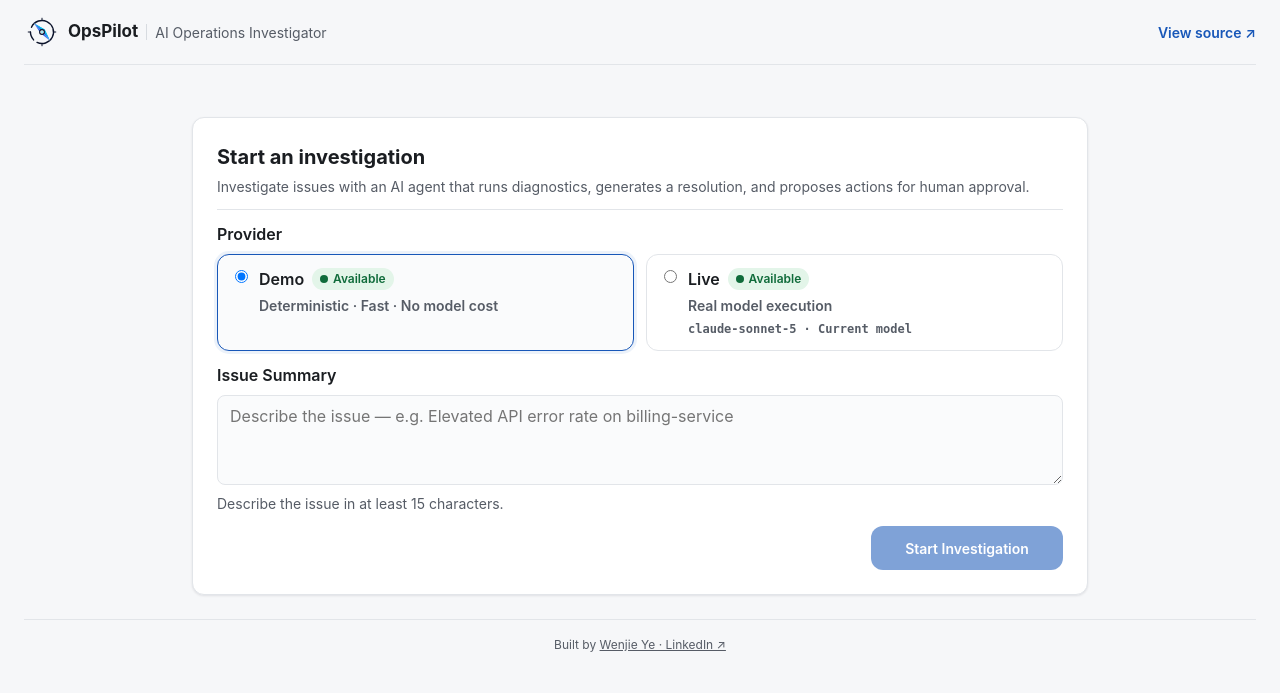
Test: live access token lifetime › clears the token field after a terminal failure too
Step 1. Type "Elevated error rate on billing" into the text box labelled "Issue Summary" → (640, 440), box 217,395 -> 1063,485
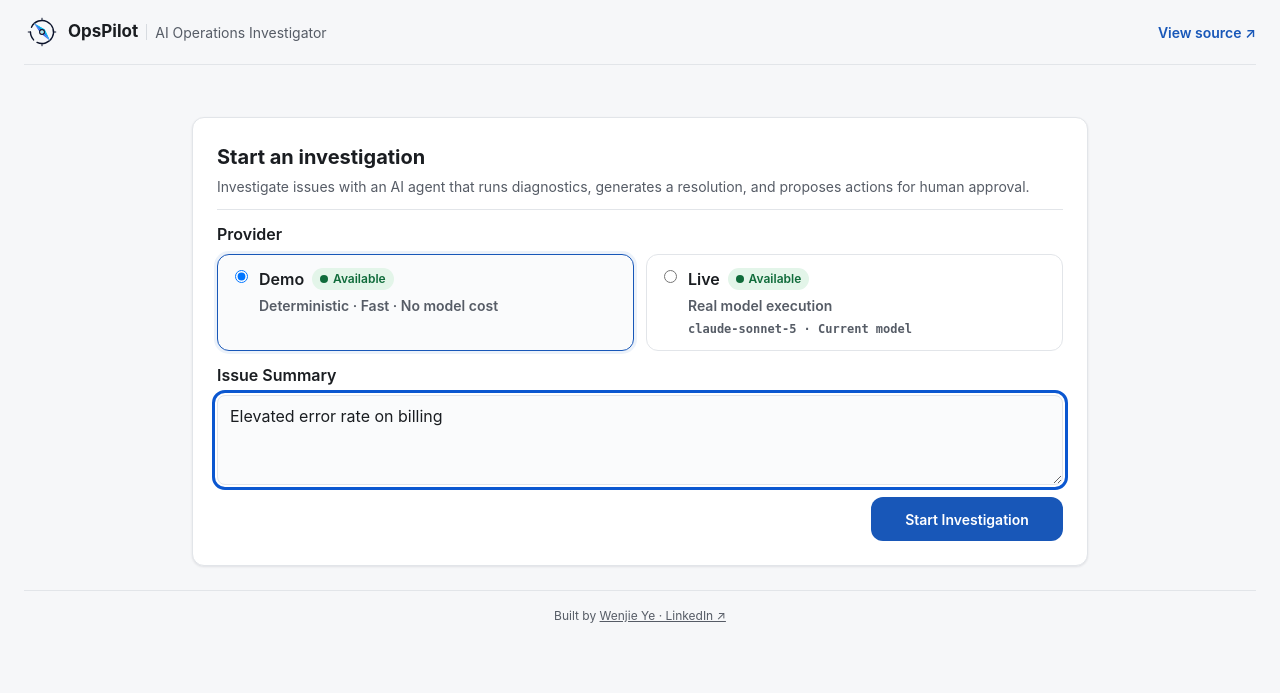
Step 2. Click the radio button labelled "Live" → (670, 277), box 664,270 -> 677,283
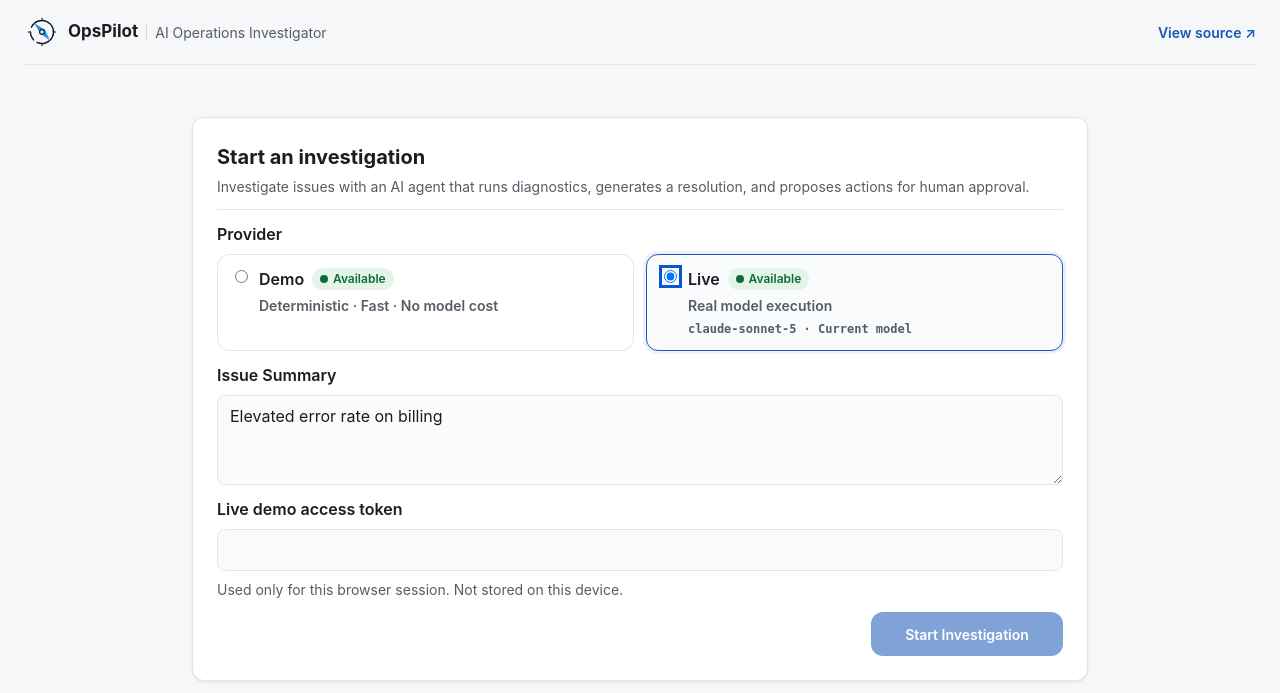
Step 3. Type "demo-token-do-not-use-8f14e45fceea" into the password field labelled "Live demo access token" → (640, 550), box 217,529 -> 1063,571
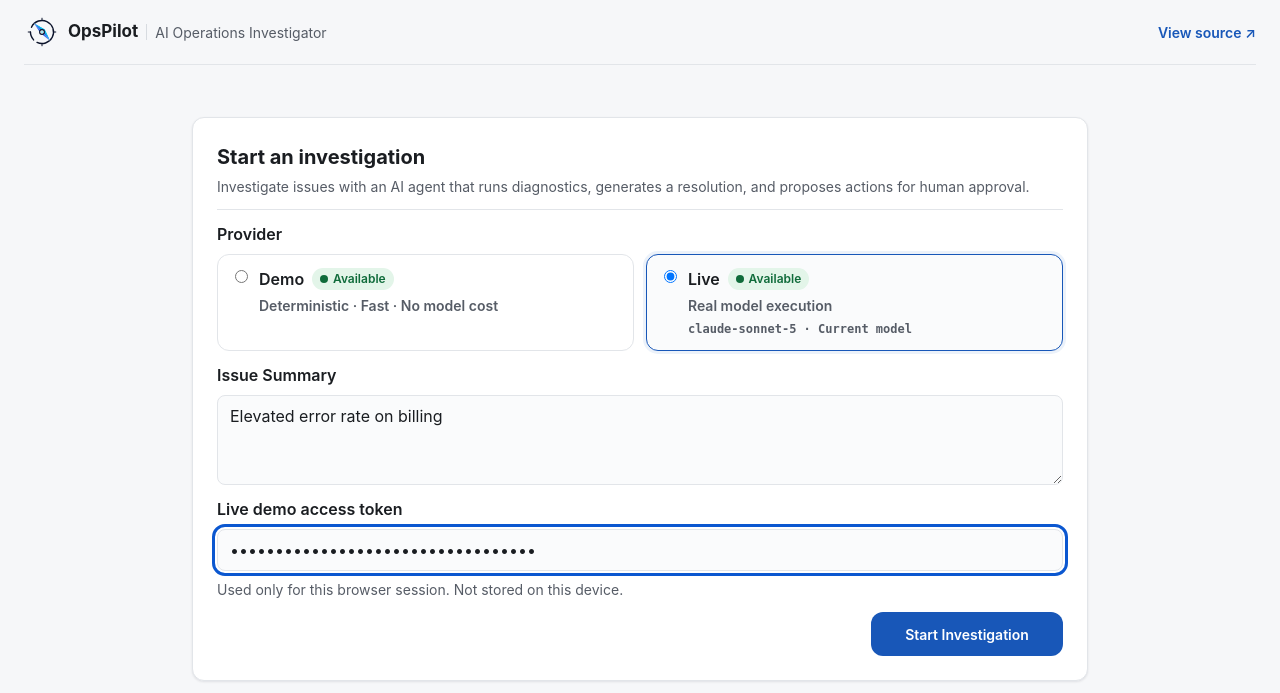
Step 4. Click the button "Start Investigation" → (967, 634), box 871,612 -> 1063,656
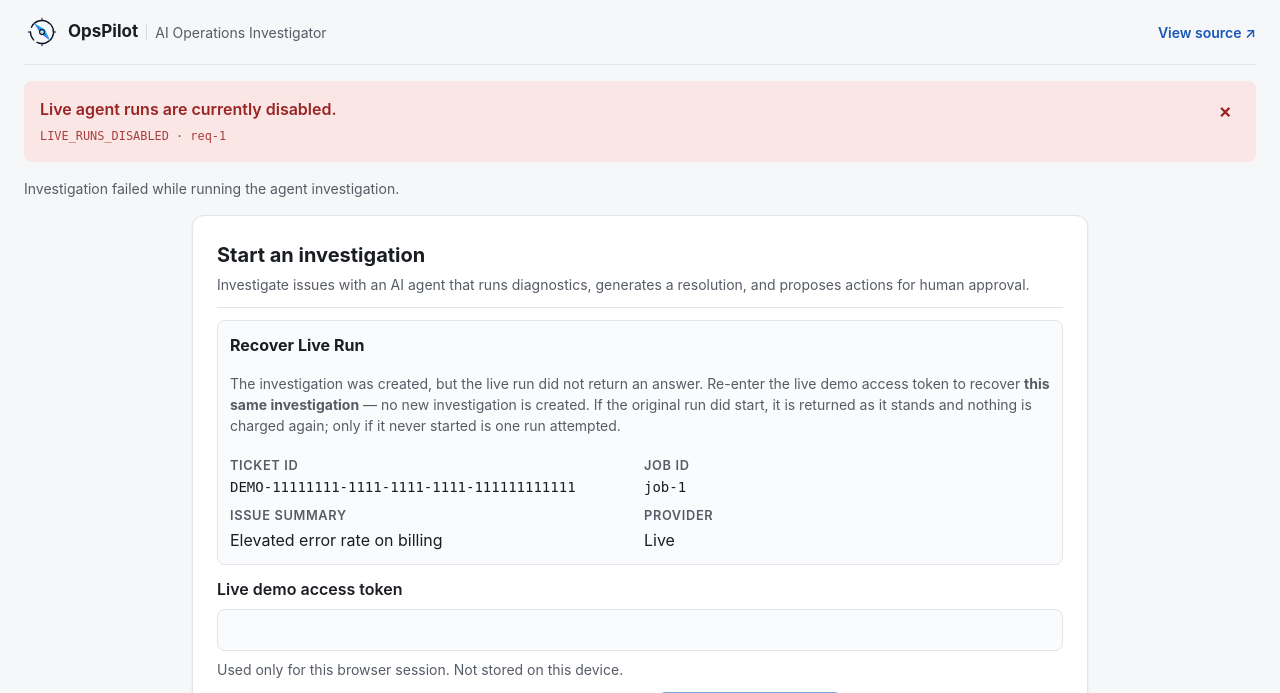
Expected: the text "Live agent runs are currently disabled." is shown, 40,97 -> 337,121
Expected: the password field labelled "Live demo access token" is empty, 217,609 -> 1063,651
